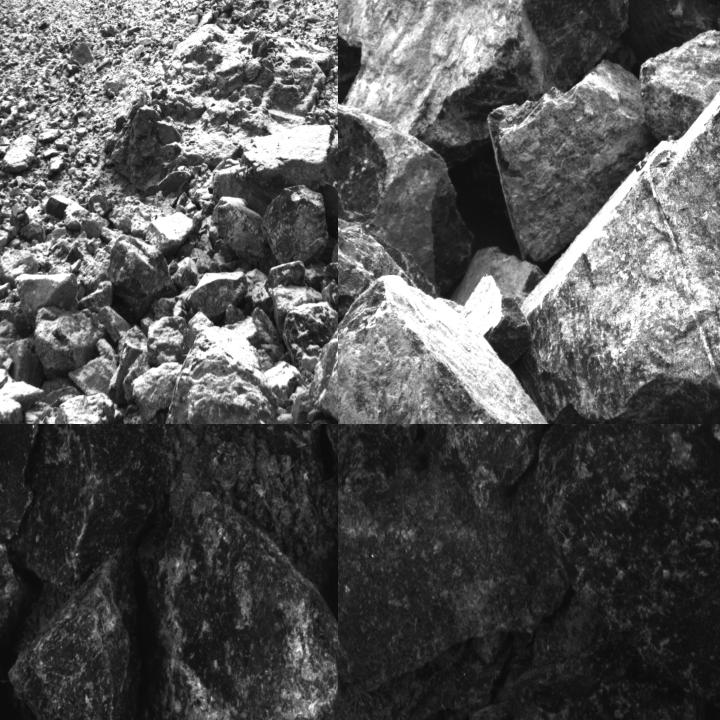stone: (512, 0, 719, 423), (338, 424, 565, 692), (516, 424, 719, 704), (338, 0, 631, 172), (154, 491, 337, 719), (338, 274, 570, 423), (487, 60, 652, 261), (338, 93, 475, 296), (161, 424, 337, 579), (23, 424, 180, 586), (2, 564, 147, 719), (467, 636, 716, 719), (208, 127, 337, 234), (394, 424, 571, 487), (165, 327, 278, 423), (108, 233, 180, 325), (262, 187, 332, 267), (35, 307, 105, 379), (285, 301, 337, 382), (212, 197, 267, 266), (0, 424, 32, 538), (0, 545, 28, 667), (16, 273, 78, 323), (133, 359, 183, 419), (189, 272, 246, 320), (145, 211, 193, 257), (146, 316, 190, 366), (54, 392, 122, 423), (0, 378, 45, 423), (2, 133, 37, 172), (264, 262, 303, 294)
